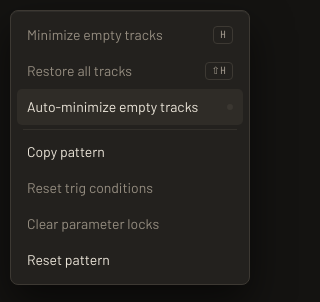
Test: GridContextMenu Copy pattern › copies, shows Copied, then closes
The width and height of the screenshot is (320, 302).
Click the menu item "Copy pattern" at (130, 152), box [17, 134, 243, 170]
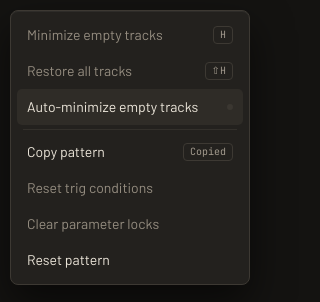
Expected: the message reads "Copied", [190, 145, 226, 158]
